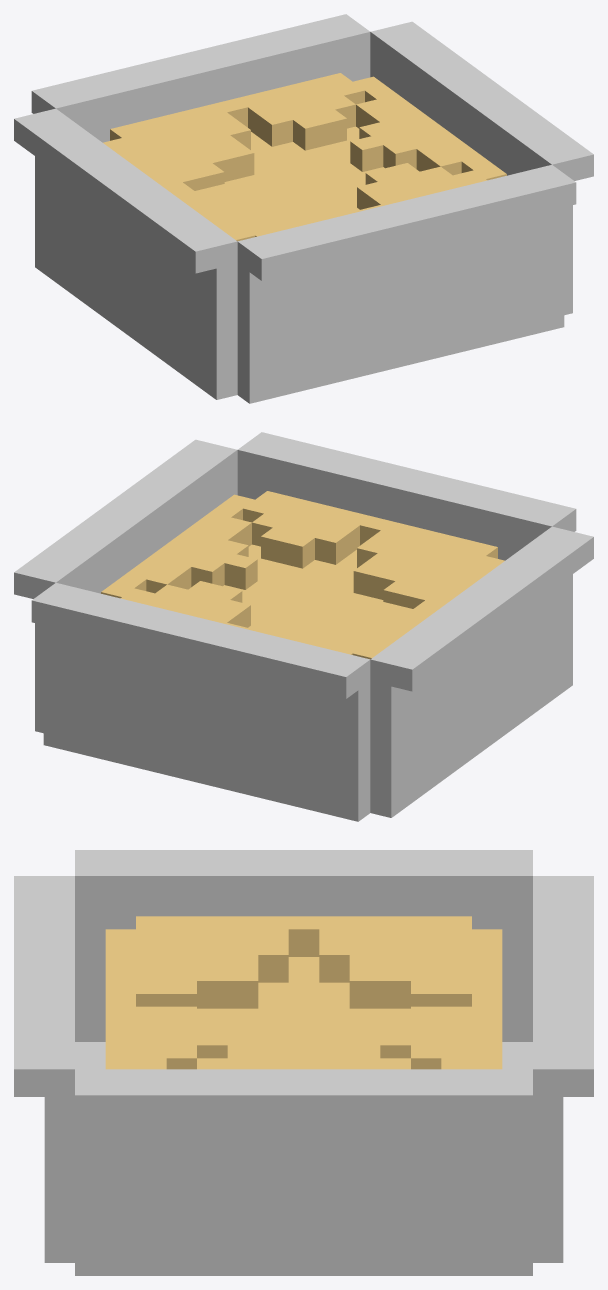
File: Soy.fbx
The picture shows the model from 3 angles, top to bottom: view 1: azimuth 30°, elevation 25°; view 2: azimuth 150°, elevation 25°; view 3: azimuth 270°, elevation 25°; orthographic projection. The views are drawn at different scales.
Parts seen in each view (by area): view 1: Soy:Soy; view 2: Soy:Soy; view 3: Soy:Soy.
Boxes of the visible parts, box(x1,y1,x2,y2) form: Soy:Soy: box(14, 14, 593, 403); Soy:Soy: box(14, 432, 593, 821); Soy:Soy: box(14, 850, 593, 1275).
Bounding box in the file's own units: 19 × 7 × 19.
